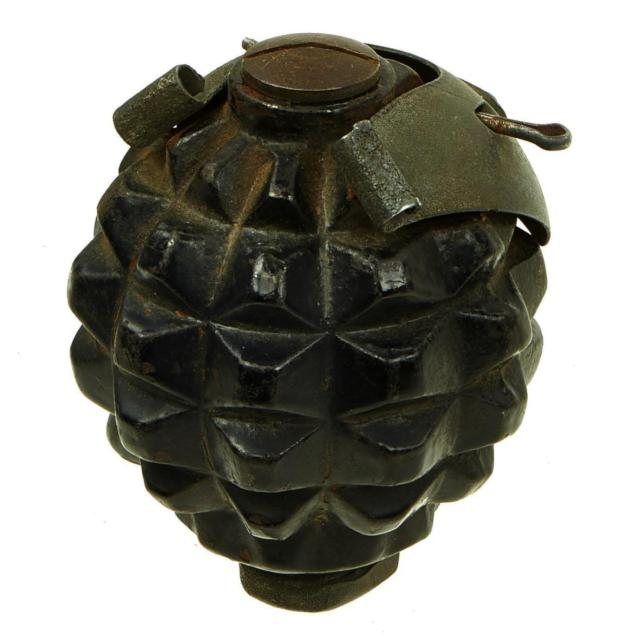grenade: (68, 33, 573, 615)
